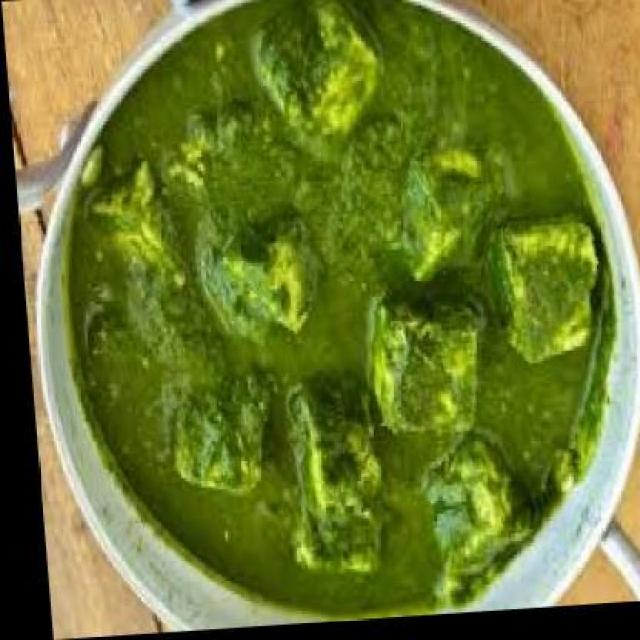palak_paneer: (40, 0, 626, 638)
